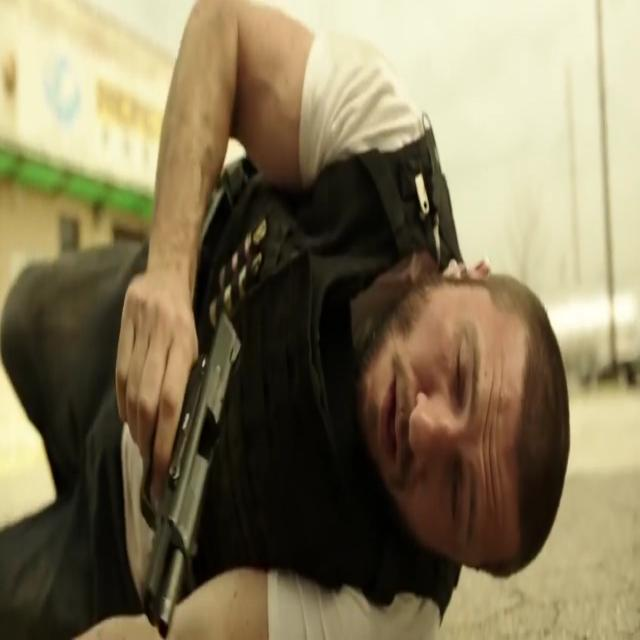Weapon: (119, 313, 252, 595)
